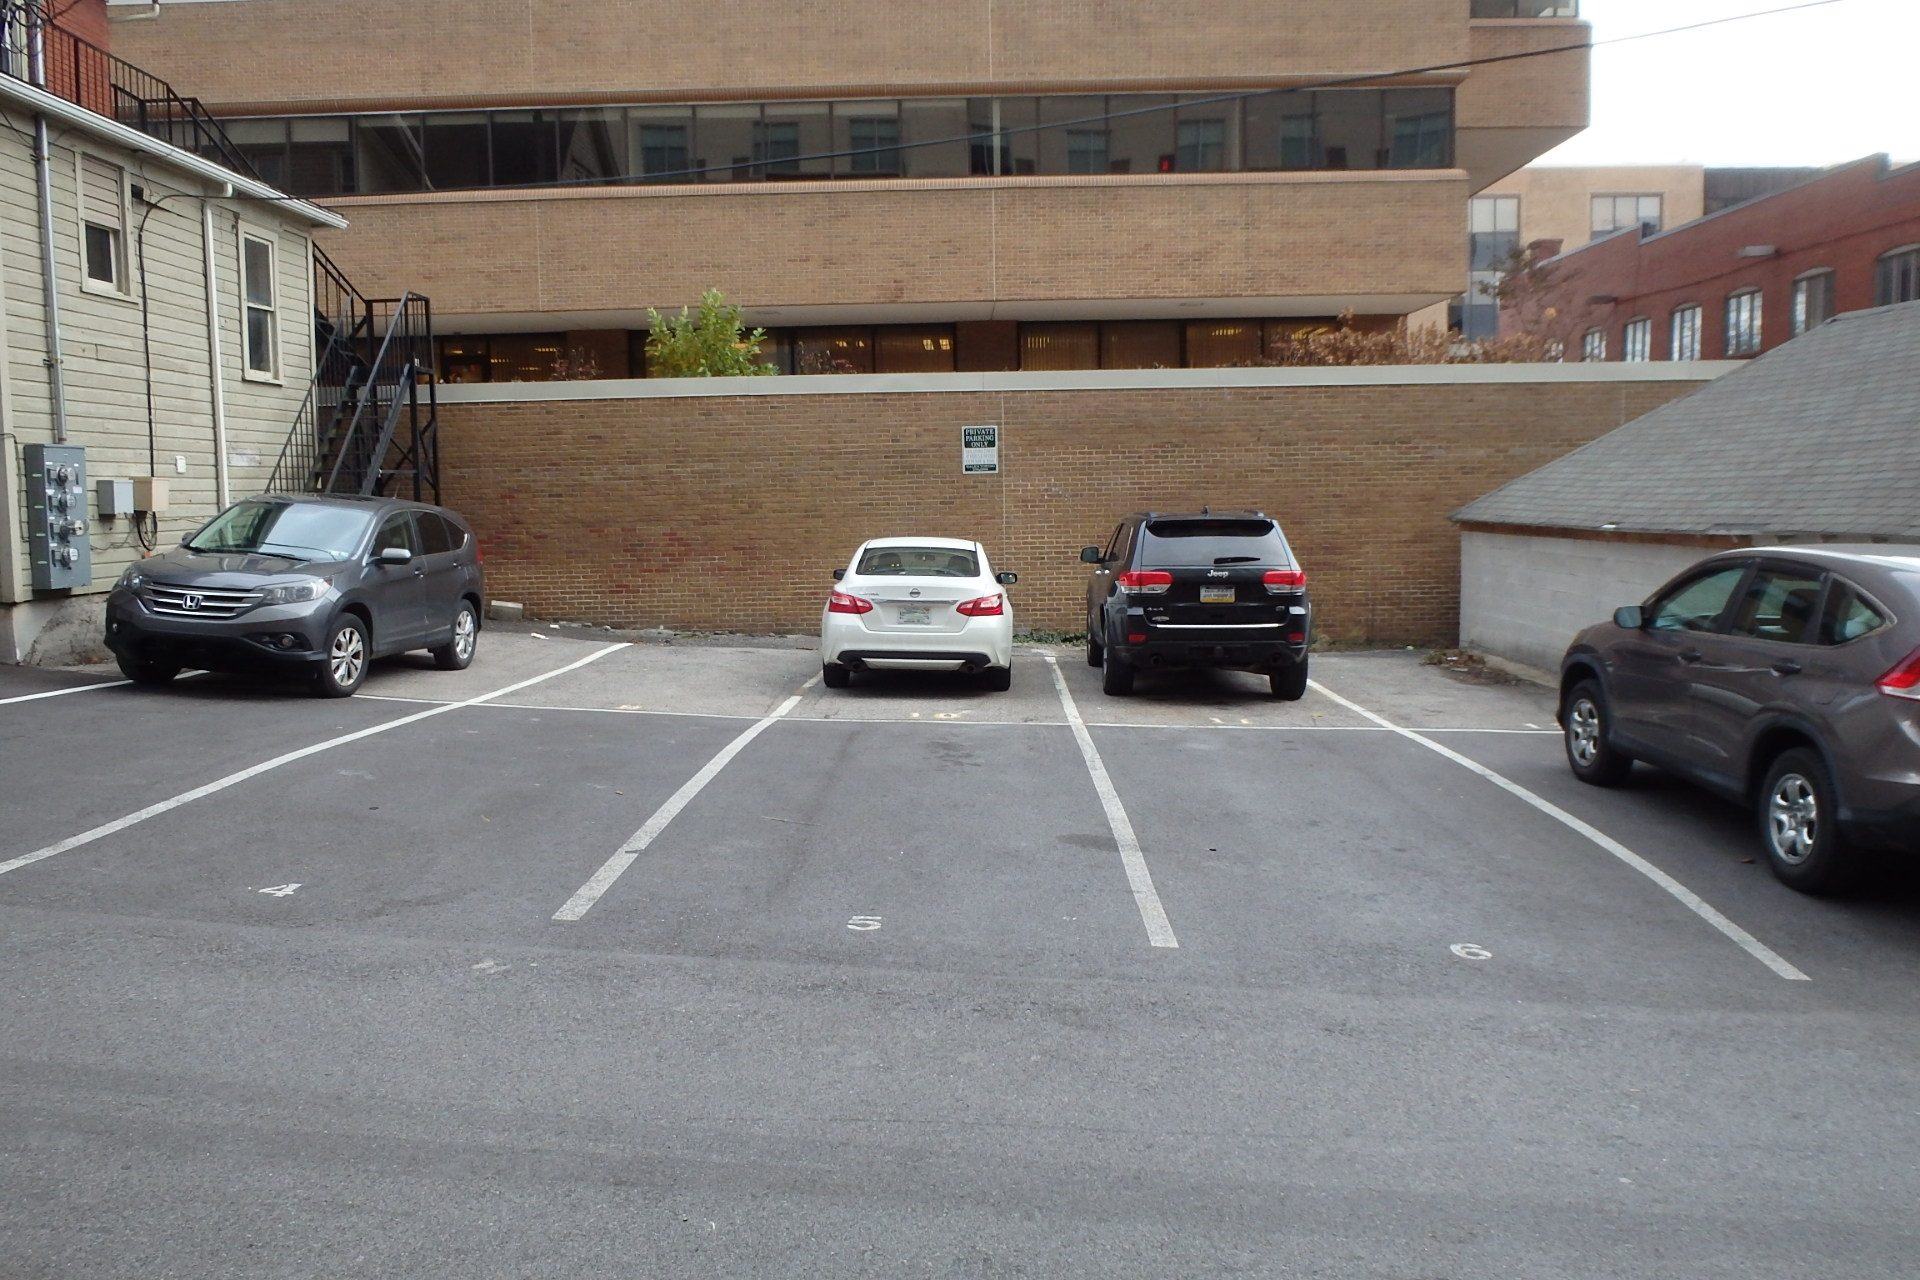empyt_space: (1061, 700, 1826, 989), (29, 696, 786, 956), (546, 704, 1199, 951), (1, 671, 461, 921), (459, 636, 814, 731), (1311, 639, 1563, 751)
